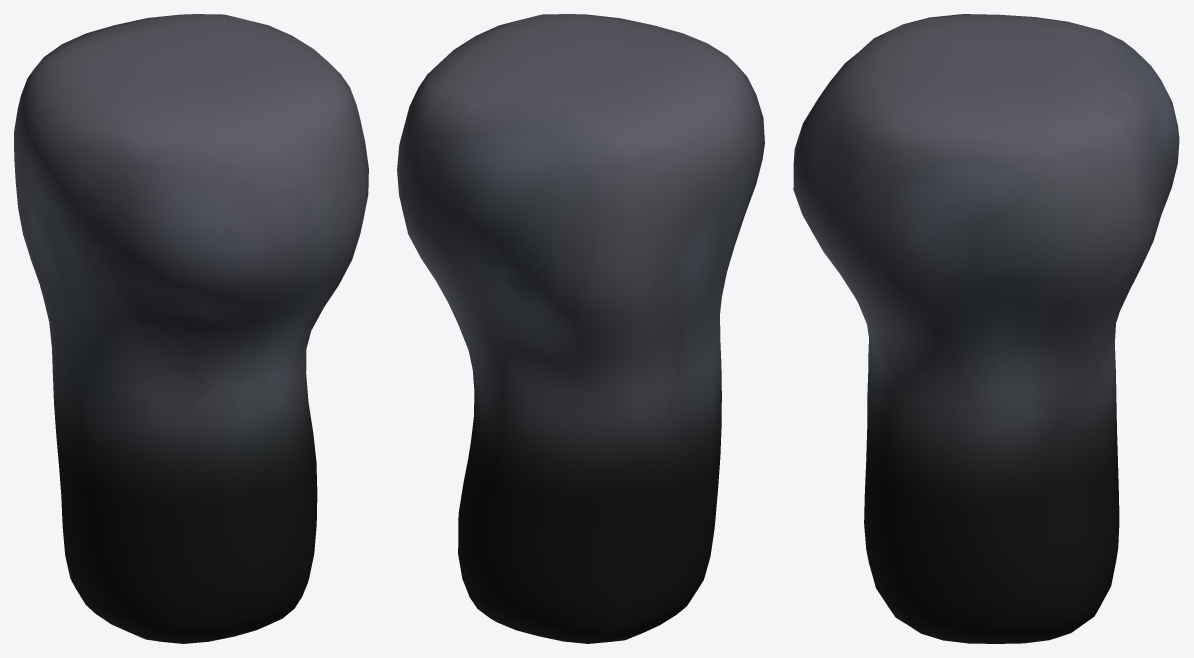
Rendered from RockPlatformPillar.fbx.
The picture shows the model from 3 angles, left to right: view 1: azimuth 30°, elevation 25°; view 2: azimuth 150°, elevation 25°; view 3: azimuth 270°, elevation 25°; orthographic projection.
Parts seen in each view (by area): view 1: RockPlatformPillar; view 2: RockPlatformPillar; view 3: RockPlatformPillar.
Part boxes in pixels (box(x1,y1,x2,y2)): RockPlatformPillar: box(14, 14, 368, 643); RockPlatformPillar: box(397, 14, 764, 643); RockPlatformPillar: box(793, 14, 1179, 643).
Size of the model in its own units: 208 by 367 by 232.
1 material, 1 textured.
